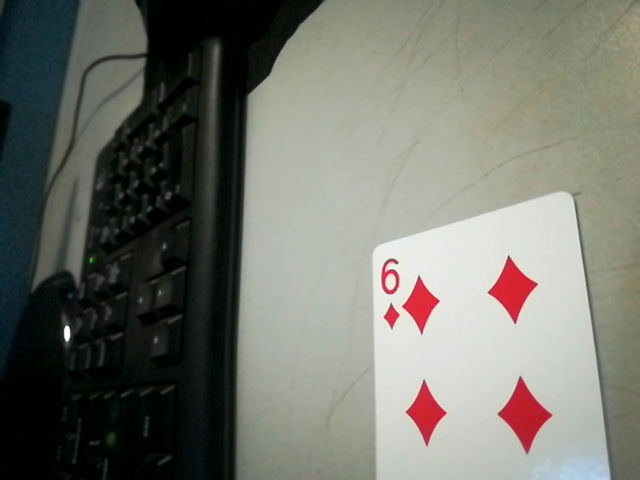fk 6: (368, 250, 415, 334)
